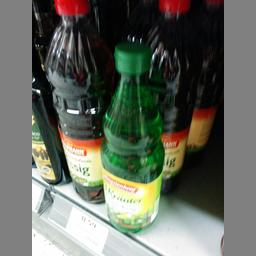vinegar: (47, 0, 111, 209), (100, 42, 164, 236), (148, 0, 190, 199)
